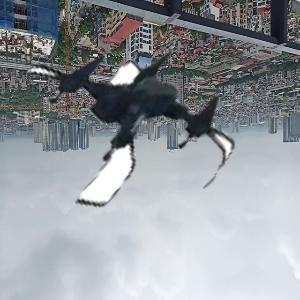drone: (20, 12, 235, 227)
